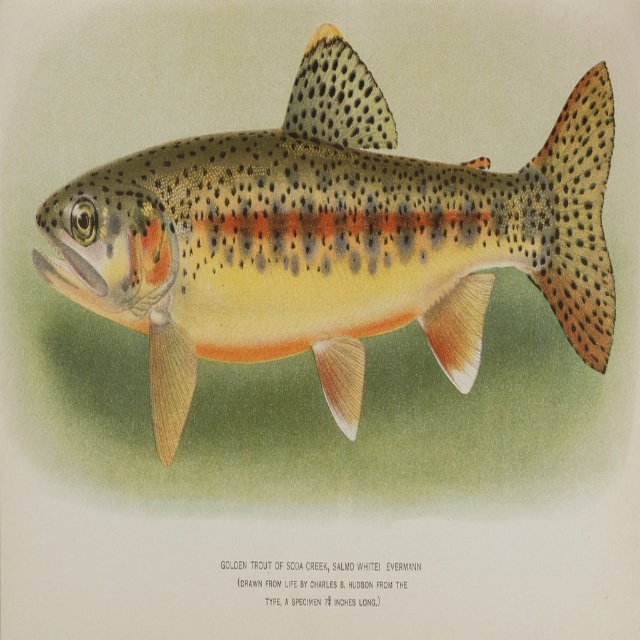Fish: (26, 19, 620, 442)
